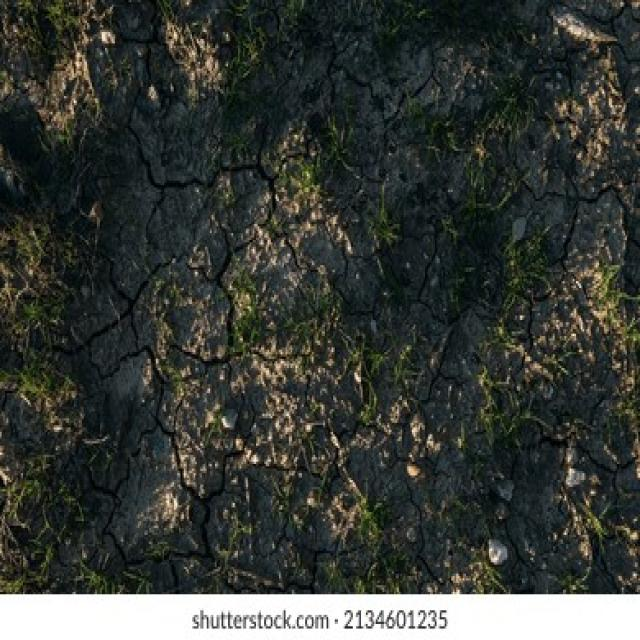Clay Soil: (36, 83, 574, 522)
